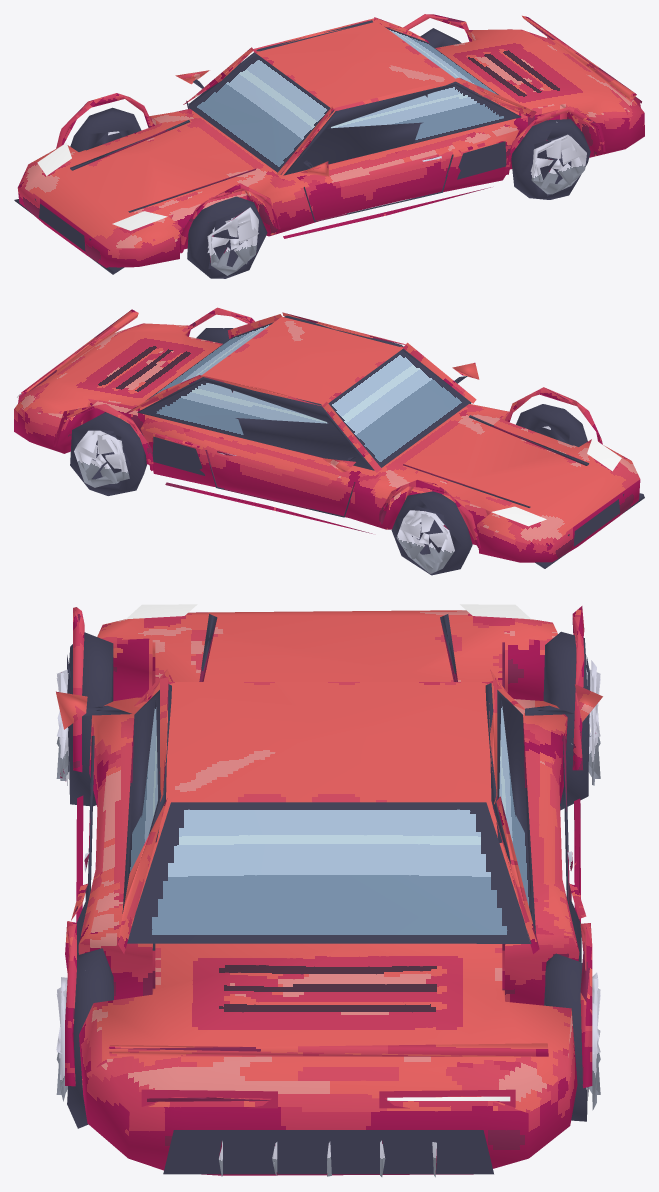
3 renders of one model, top to bottom at view 1: azimuth 30°, elevation 25°; view 2: azimuth 150°, elevation 25°; view 3: azimuth 270°, elevation 25°, orthographic. The views are drawn at different scales.
Parts seen in each view (by area): view 1: Body_static, Wheel_RL_tire_hub, Wheel_FL_tire_hub, Wheel_FR_tire_hub, Wheel_RR_tire_hub; view 2: Body_static, Wheel_FR_tire_hub, Wheel_RR_tire_hub, Wheel_FL_tire_hub, Wheel_RL_tire_hub; view 3: Body_static, Wheel_FR_tire_hub, Wheel_FL_tire_hub, Wheel_RL_tire_hub, Wheel_RR_tire_hub.
Boxes of the visible parts, left/top/right/bottom form: Body_static: left=14, top=14, right=644, bottom=274; Wheel_RL_tire_hub: left=511, top=119, right=590, bottom=199; Wheel_FL_tire_hub: left=187, top=196, right=267, bottom=278; Wheel_FR_tire_hub: left=70, top=107, right=141, bottom=151; Wheel_RR_tire_hub: left=420, top=28, right=461, bottom=47; Body_static: left=14, top=307, right=644, bottom=568; Wheel_FR_tire_hub: left=391, top=491, right=472, bottom=575; Wheel_RR_tire_hub: left=70, top=412, right=146, bottom=495; Wheel_FL_tire_hub: left=516, top=404, right=587, bottom=446; Wheel_RL_tire_hub: left=196, top=328, right=233, bottom=343; Body_static: left=56, top=604, right=602, bottom=1177; Wheel_FR_tire_hub: left=543, top=631, right=600, bottom=810; Wheel_FL_tire_hub: left=56, top=632, right=113, bottom=806; Wheel_RL_tire_hub: left=56, top=948, right=113, bottom=1128; Wheel_RR_tire_hub: left=544, top=953, right=600, bottom=1121.
Bounding box in the file's own units: 81.02 × 18.64 × 35.67.
1 material, 1 textured.
